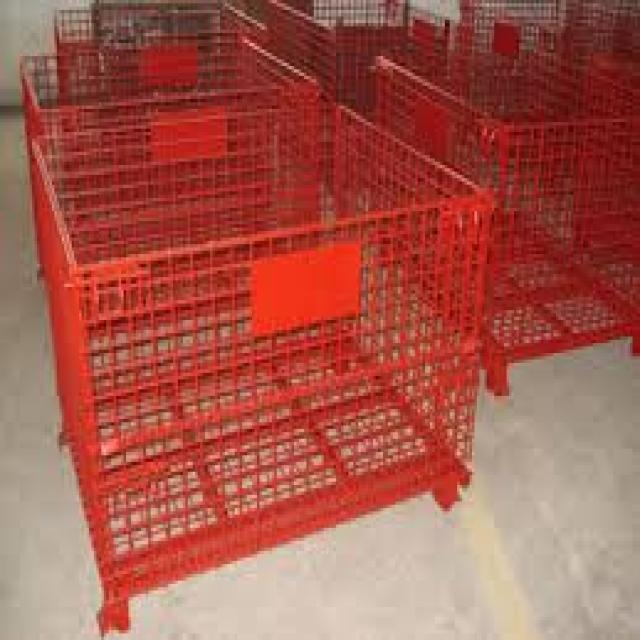basket: (20, 0, 640, 632)
